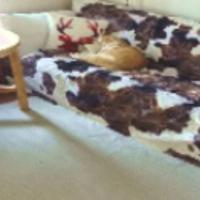asleep: (69, 32, 147, 71)
